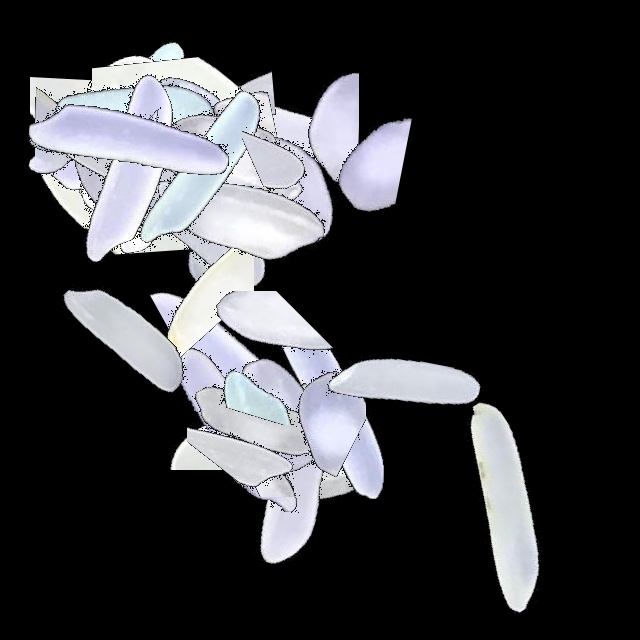Broken: (92, 18, 259, 268), (36, 45, 202, 295), (141, 267, 391, 423), (30, 29, 178, 279), (223, 276, 366, 526), (222, 0, 359, 250), (210, 84, 460, 221), (187, 283, 322, 533), (124, 291, 374, 420), (124, 344, 374, 470), (131, 138, 254, 388), (35, 0, 156, 250), (202, 84, 320, 334), (242, 0, 358, 250), (171, 382, 421, 497), (96, 91, 346, 204), (216, 67, 323, 317), (95, 35, 345, 140), (257, 330, 360, 580), (149, 10, 236, 260), (168, 343, 418, 425)
Full: (141, 0, 391, 250), (170, 342, 420, 592), (10, 42, 260, 292), (206, 282, 456, 532), (0, 27, 250, 277), (170, 356, 420, 606), (110, 306, 360, 556), (152, 288, 402, 538), (7, 0, 257, 250), (0, 18, 250, 268), (0, 29, 250, 279), (0, 55, 250, 305), (135, 65, 385, 315), (50, 0, 300, 250), (0, 40, 250, 290), (73, 0, 323, 250), (114, 115, 364, 365), (0, 0, 250, 250), (88, 107, 338, 357), (136, 294, 386, 544), (168, 68, 418, 318), (102, 38, 352, 288), (2, 211, 252, 461), (126, 95, 376, 345), (78, 44, 328, 294), (5, 12, 255, 262), (281, 256, 531, 506), (377, 382, 627, 632)
